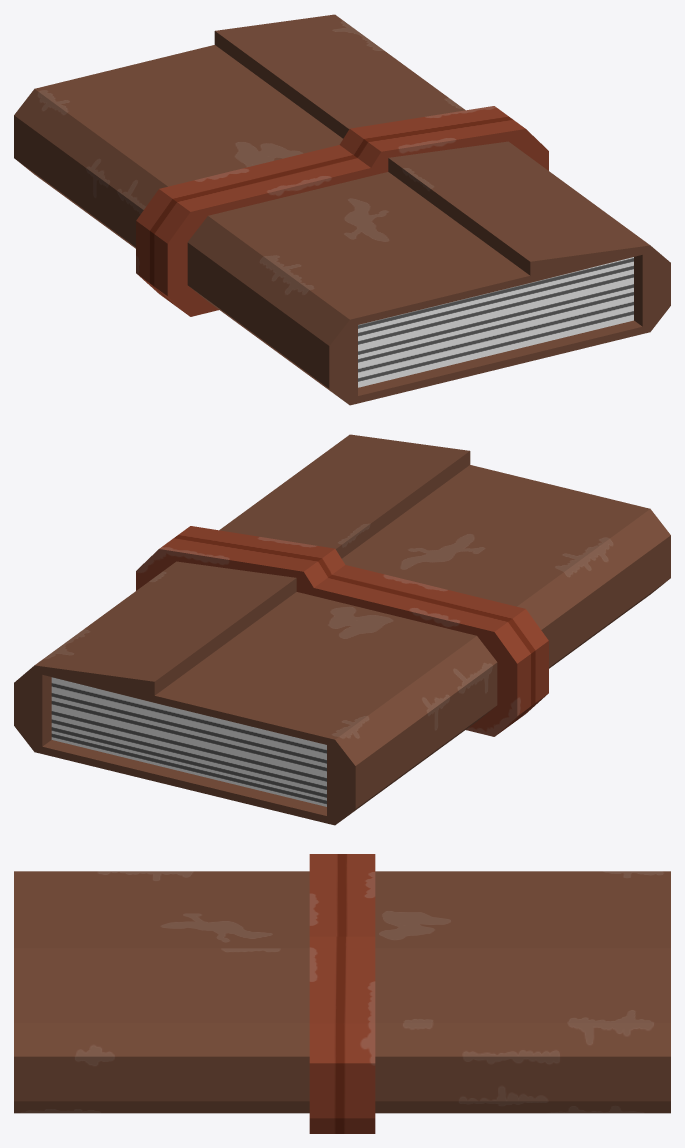
Rendered from Notebook.fbx.
3 views of the same model, one above another, from view 1: azimuth 30°, elevation 25°; view 2: azimuth 150°, elevation 25°; view 3: azimuth 270°, elevation 25° (orthographic). The views are drawn at different scales.
Visible parts, largest first — view 1: pCube1; view 2: pCube1; view 3: pCube1.
Boxes of the visible parts, bbox=[...] form: pCube1: bbox=[14, 14, 670, 405]; pCube1: bbox=[14, 434, 670, 825]; pCube1: bbox=[14, 854, 670, 1133].
Bounding box in the file's own units: 0.279 × 0.0831 × 0.4.
